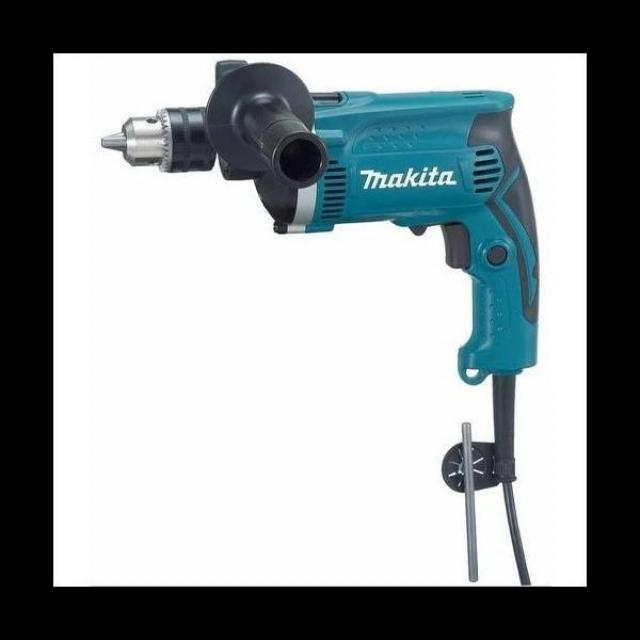Drill: (101, 60, 540, 581)
